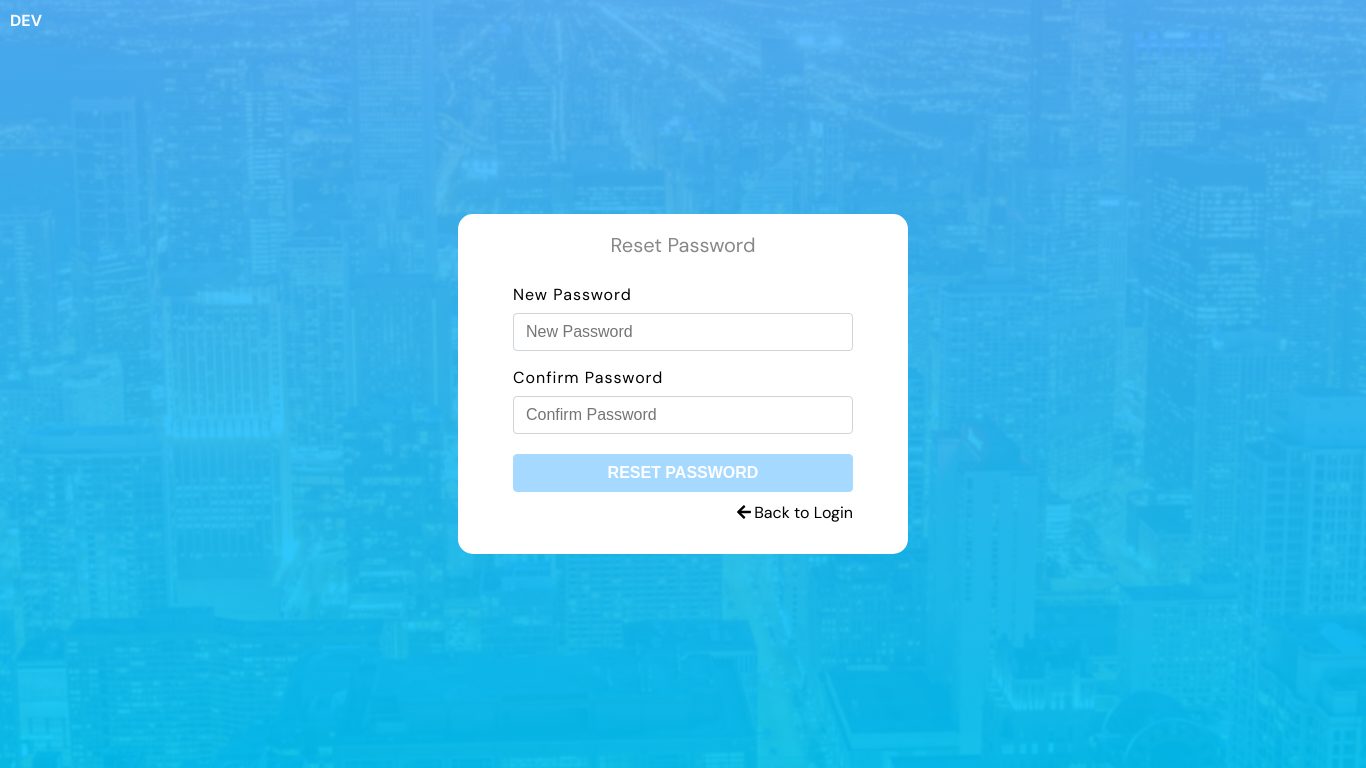
Test: ResetPassword › Success › should display success alert
The width and height of the screenshot is (1366, 768).
In the password field labelled "New Password": (683, 332) [513,313,853,351], type "qwerty1"
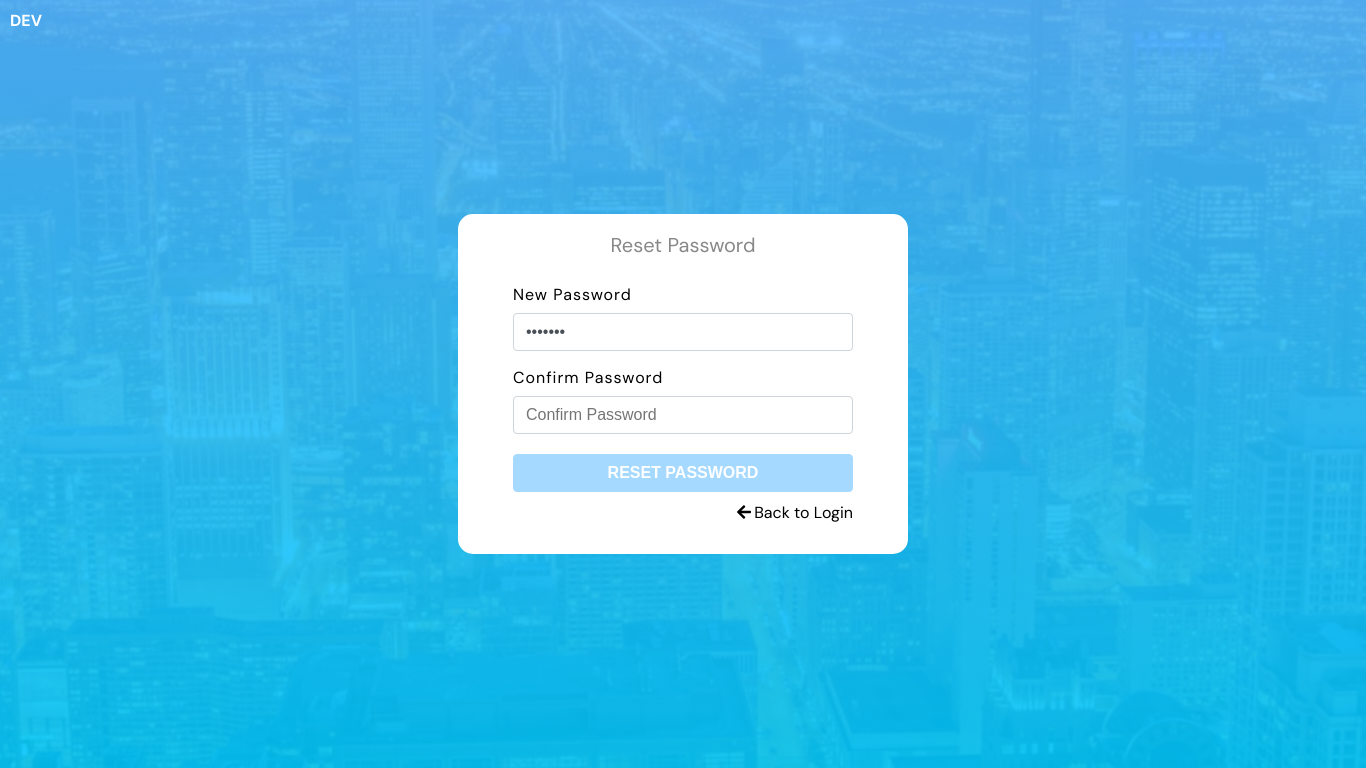
In the password field labelled "Confirm Password": (683, 415) [513,396,853,434], type "qwerty1"
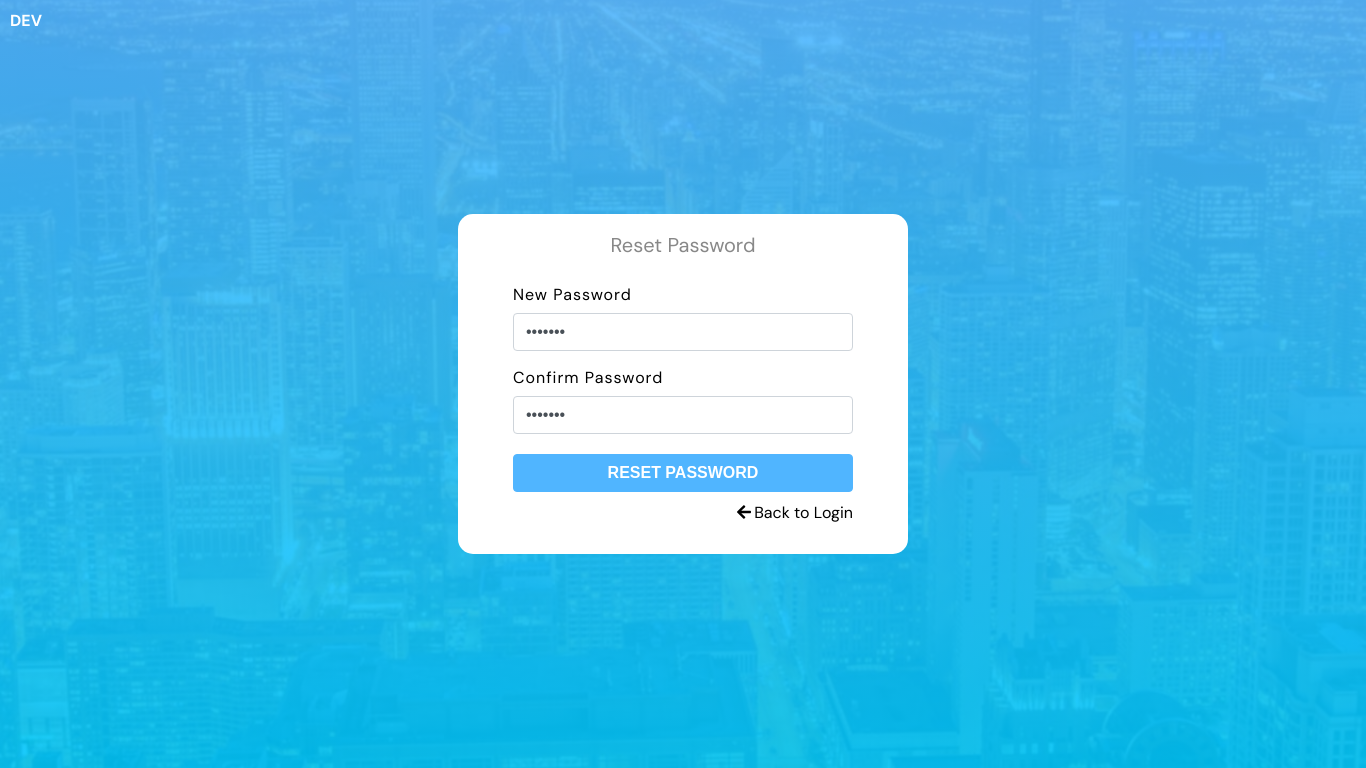
Click the button: (683, 473) [513,454,853,492]
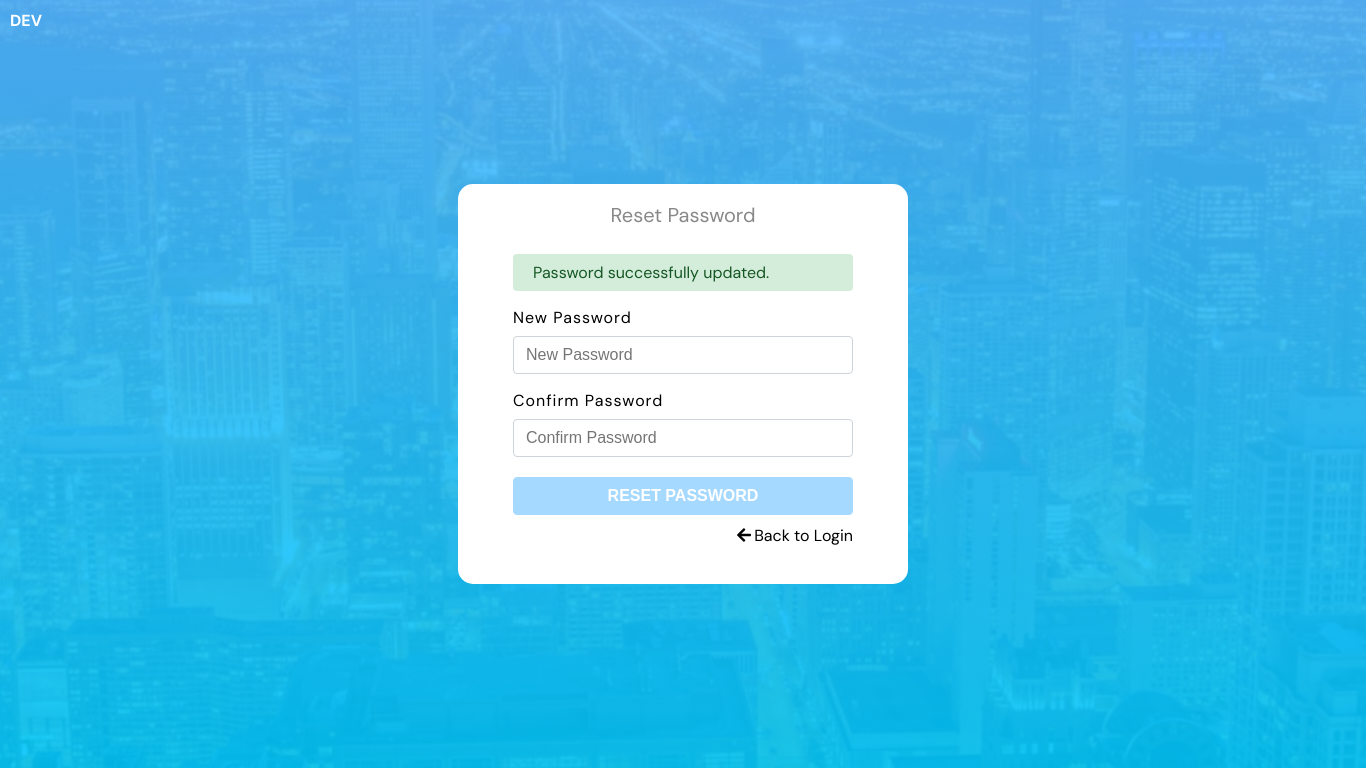
Result: the message "Password successfully updated." is shown at [513,254,853,291]
Result: the message reads "Password successfully updated." at [533,262,769,283]
